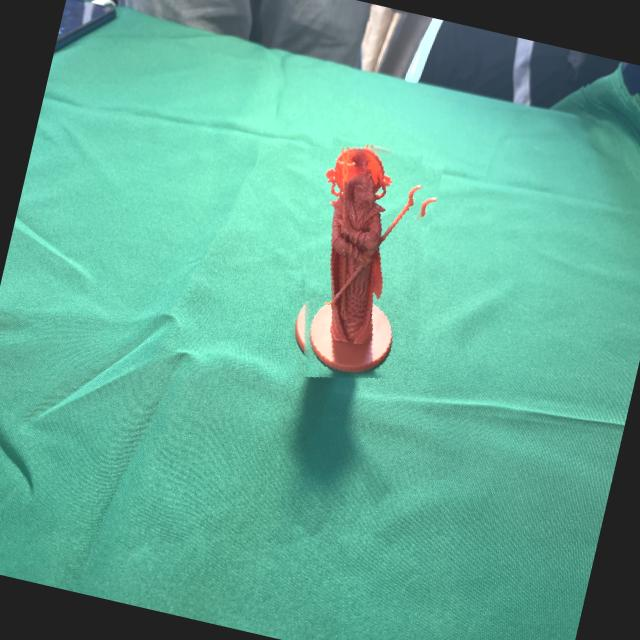amon: (268, 129, 456, 394)
